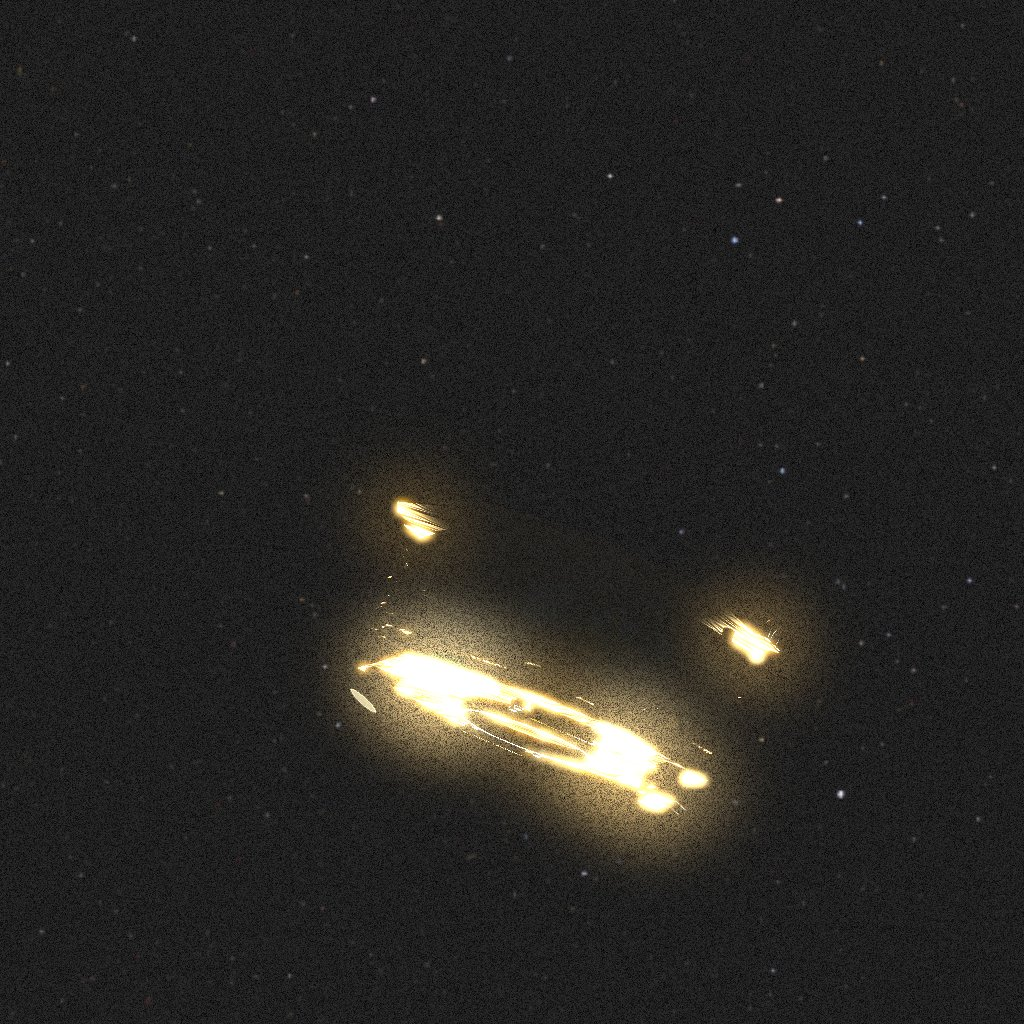lisa_pathfinder: (351, 495, 785, 815)
